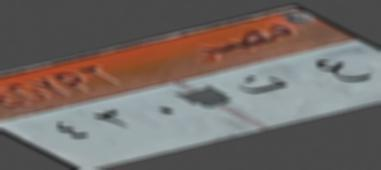0: (151, 99, 178, 122)
3: (92, 106, 130, 134)
4: (53, 115, 88, 150)
ain: (312, 54, 374, 88)
taa: (232, 70, 290, 99)
